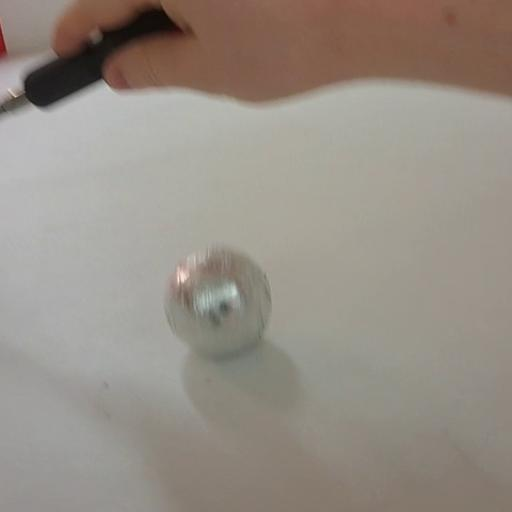alive: (160, 241, 278, 362)
